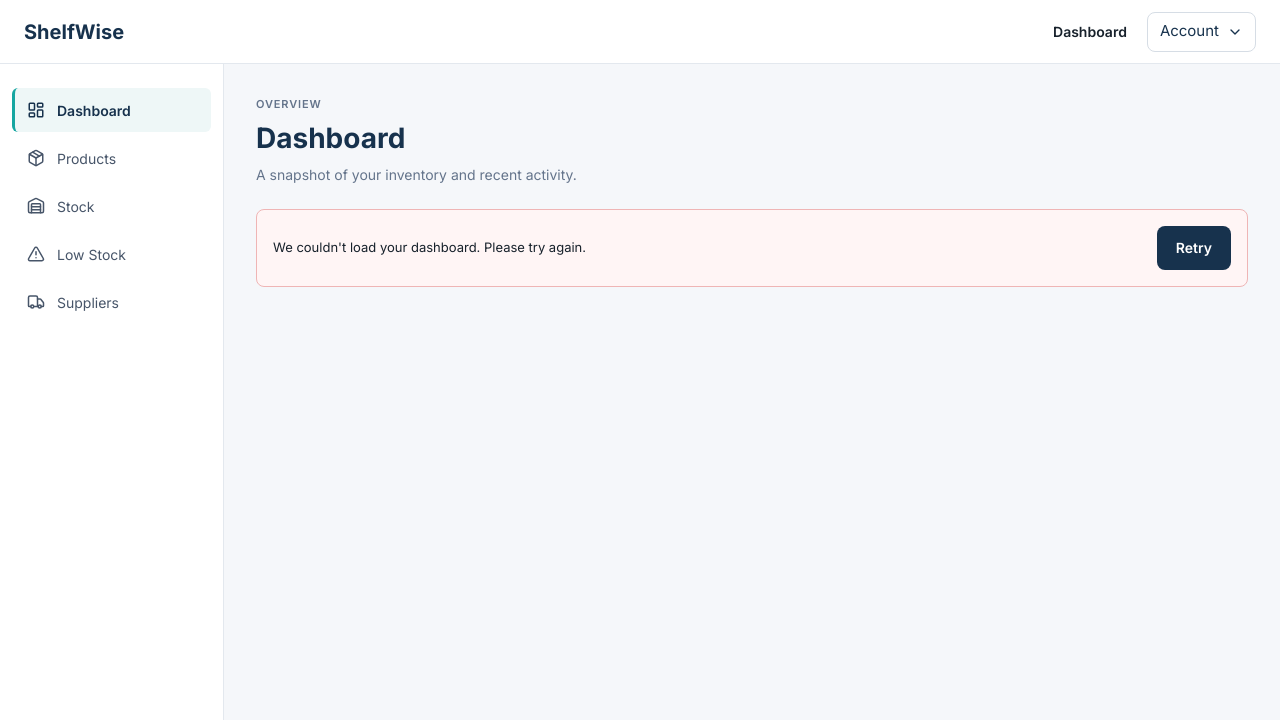
Test case: DashboardPage › shows an error and retries loading the summary
Check: the message shows "We couldn't load your dashboard. Please try again.", box top-left (273, 239), bottom-right (586, 255)
Click the button "Retry": x=1194, y=248 top-left (1157, 226), bottom-right (1231, 270)
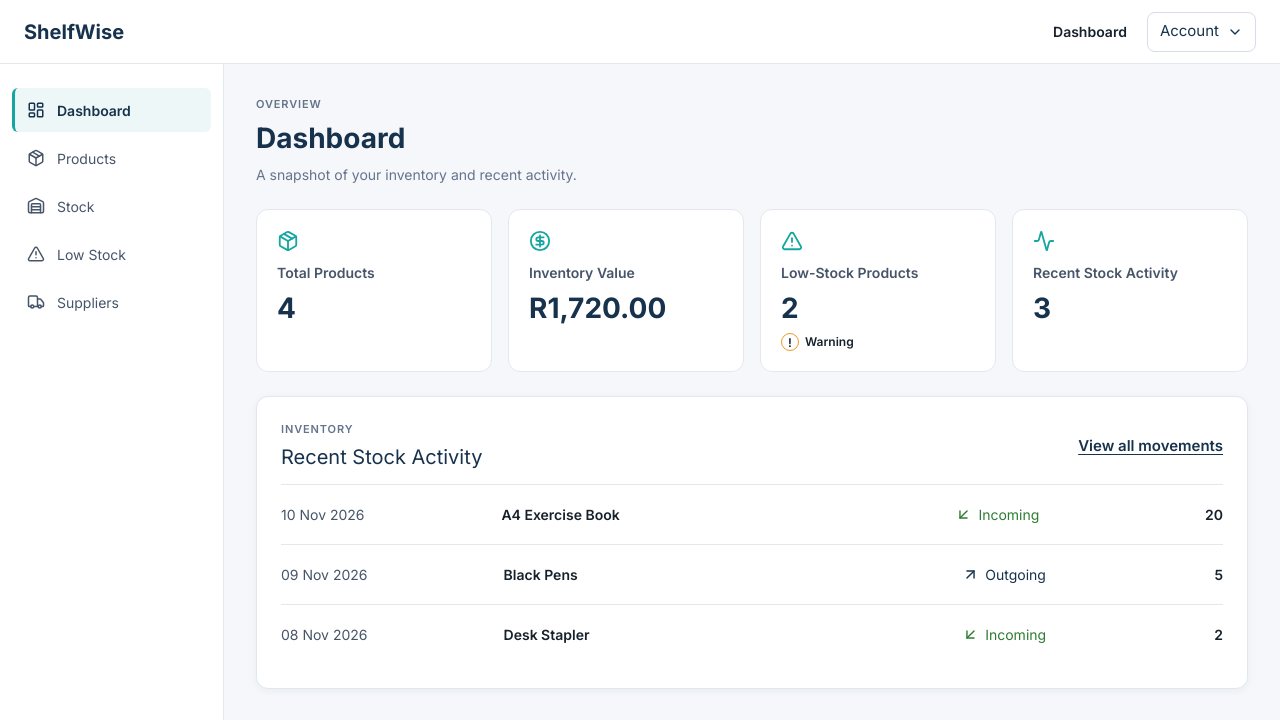
Check: the text "R1,720.00" is shown, box top-left (529, 292), bottom-right (666, 323)
